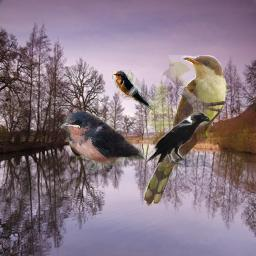Crow: (143, 110, 210, 167)
Cuckoo: (143, 55, 227, 207)
Swallow: (61, 110, 145, 174), (112, 70, 153, 110)
